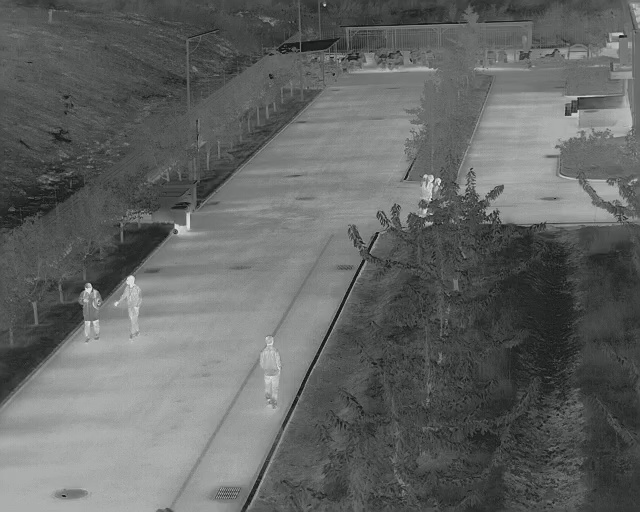person: (260, 336, 280, 410), (122, 275, 142, 340), (80, 284, 101, 341)
